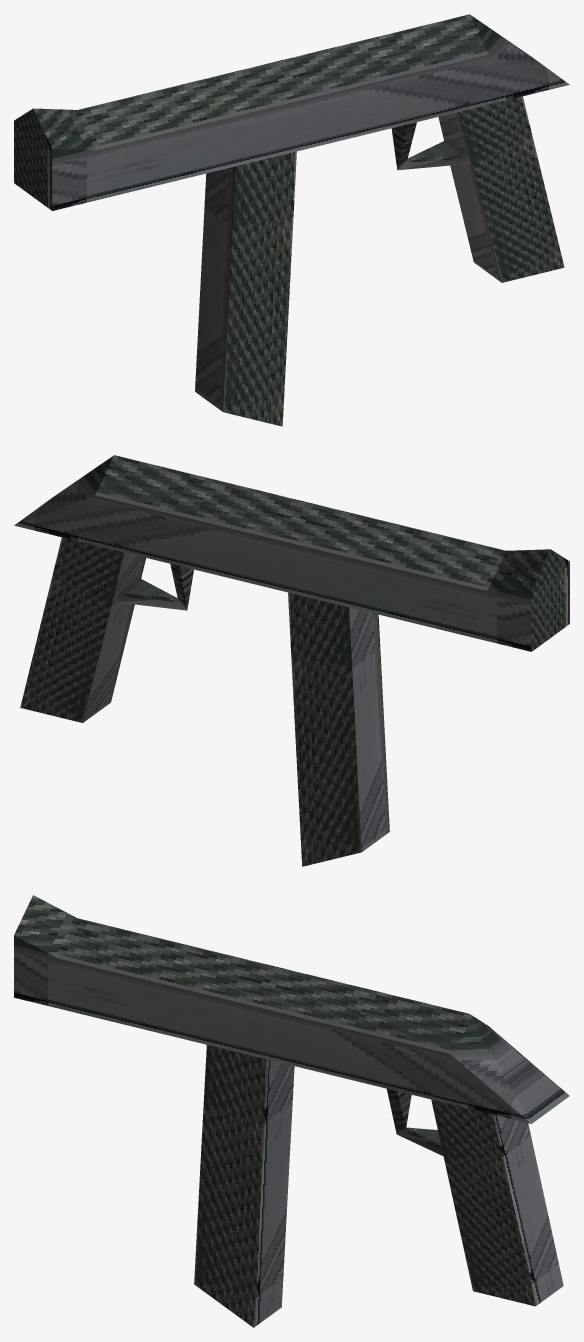
File: mgun.obj
3 renders of one model, top to bottom at view 1: azimuth 30°, elevation 25°; view 2: azimuth 150°, elevation 25°; view 3: azimuth 330°, elevation 25°, orthographic.
Parts seen in each view (by area): view 1: mgun; view 2: mgun; view 3: mgun.
Boxes of the visible parts, <box> form: mgun: <box>14,14,569,426</box>; mgun: <box>14,455,569,866</box>; mgun: <box>14,895,569,1327</box>.
Bounding box in the file's own units: 7.02 × 4.73 × 0.9.
1 material, 1 textured.
